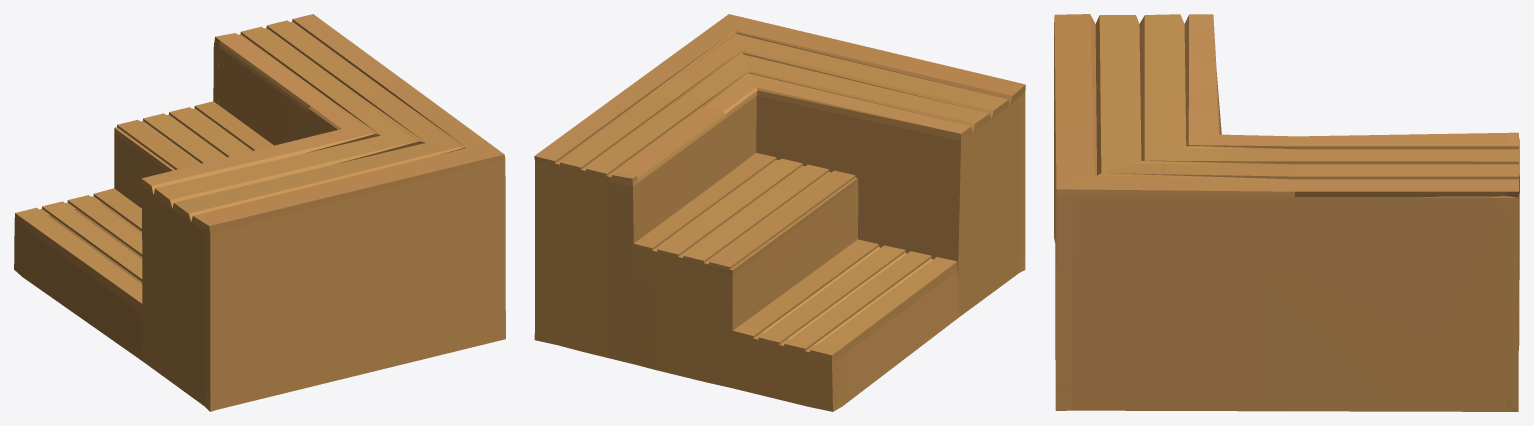
The model's file is sauona revize small.fbx.
The picture shows the model from 3 angles, left to right: view 1: azimuth 30°, elevation 25°; view 2: azimuth 150°, elevation 25°; view 3: azimuth 270°, elevation 25°; orthographic projection. The views are drawn at different scales.
Parts seen in each view (by area): view 1: small sauna; view 2: small sauna; view 3: small sauna.
Boxes of the visible parts, left/top/right/bottom form: small sauna: left=14, top=14, right=505, bottom=411; small sauna: left=534, top=14, right=1025, bottom=411; small sauna: left=1054, top=14, right=1519, bottom=411.
Bounding box in the file's own units: 350 × 208 × 393.
Materials: 1 (1 with a texture image).
